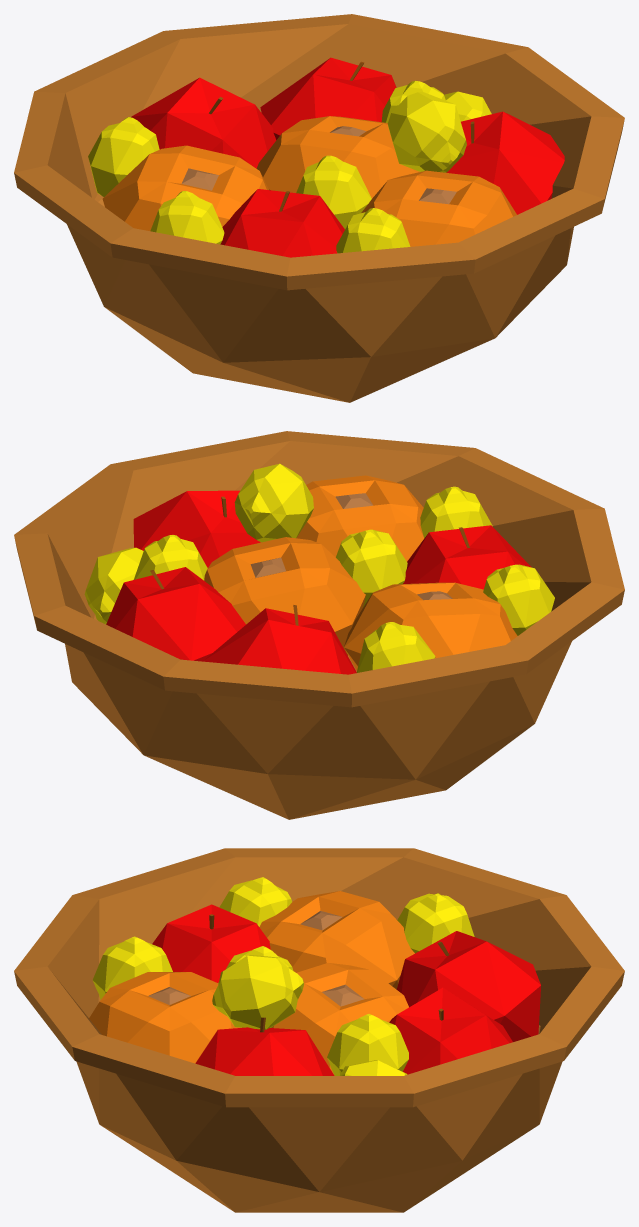
File: BasketWFruit.fbx
3 renders of one model, top to bottom at view 1: azimuth 30°, elevation 25°; view 2: azimuth 150°, elevation 25°; view 3: azimuth 270°, elevation 25°, orthographic. The views are drawn at different scales.
Parts seen in each view (by area): view 1: Basket; view 2: Basket; view 3: Basket.
Part boxes in pixels (bbox=[...]): Basket: bbox=[14, 14, 624, 402]; Basket: bbox=[14, 431, 624, 819]; Basket: bbox=[14, 848, 624, 1212].
Bounding box in the file's own units: 10.05 × 5.28 × 10.57.
1 material, 1 textured.
